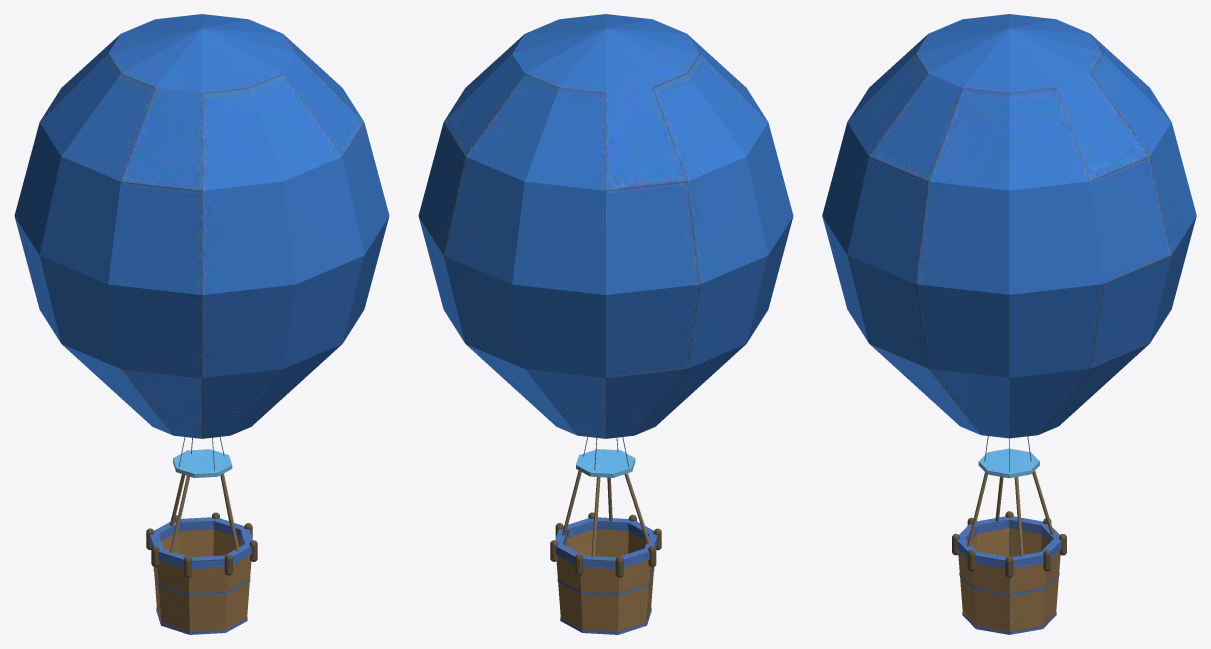
The model's file is bK-kUCyS7os.glb.
3 renders of one model, left to right at view 1: azimuth 30°, elevation 25°; view 2: azimuth 150°, elevation 25°; view 3: azimuth 270°, elevation 25°, orthographic.
Parts seen in each view (by area): view 1: Node; view 2: Node; view 3: Node.
Part boxes in pixels (x1,y1,x2,y2): Node: [14, 14, 389, 634]; Node: [418, 14, 793, 634]; Node: [822, 14, 1196, 634].
Size of the model in its own units: 0.5789 by 1 by 0.5789.
Materials: 1 (1 with a texture image).
